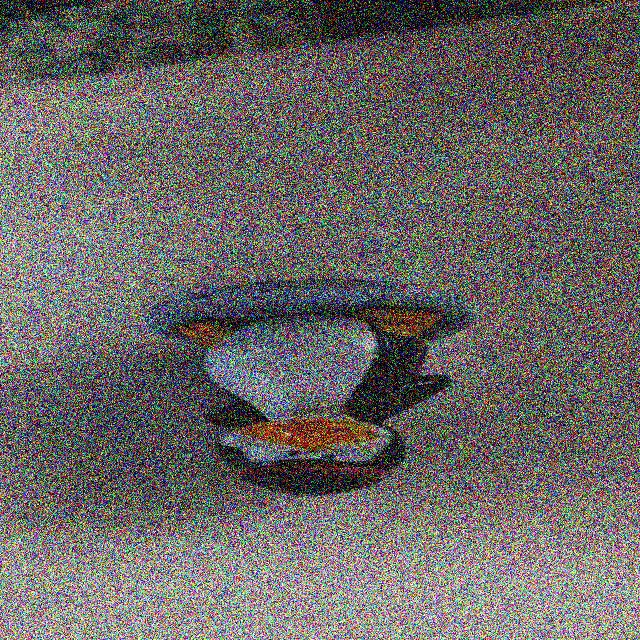Penguin: (124, 246, 501, 518)
